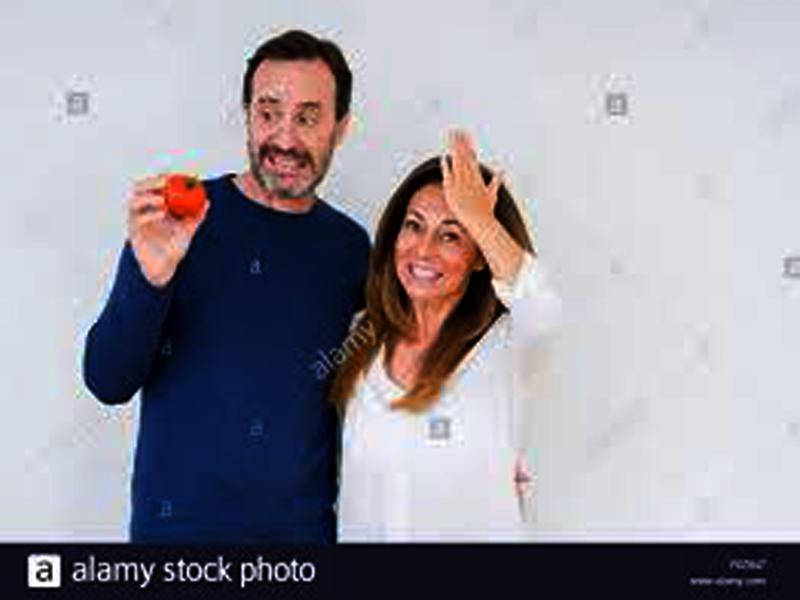Tomato: (165, 171, 205, 215)
